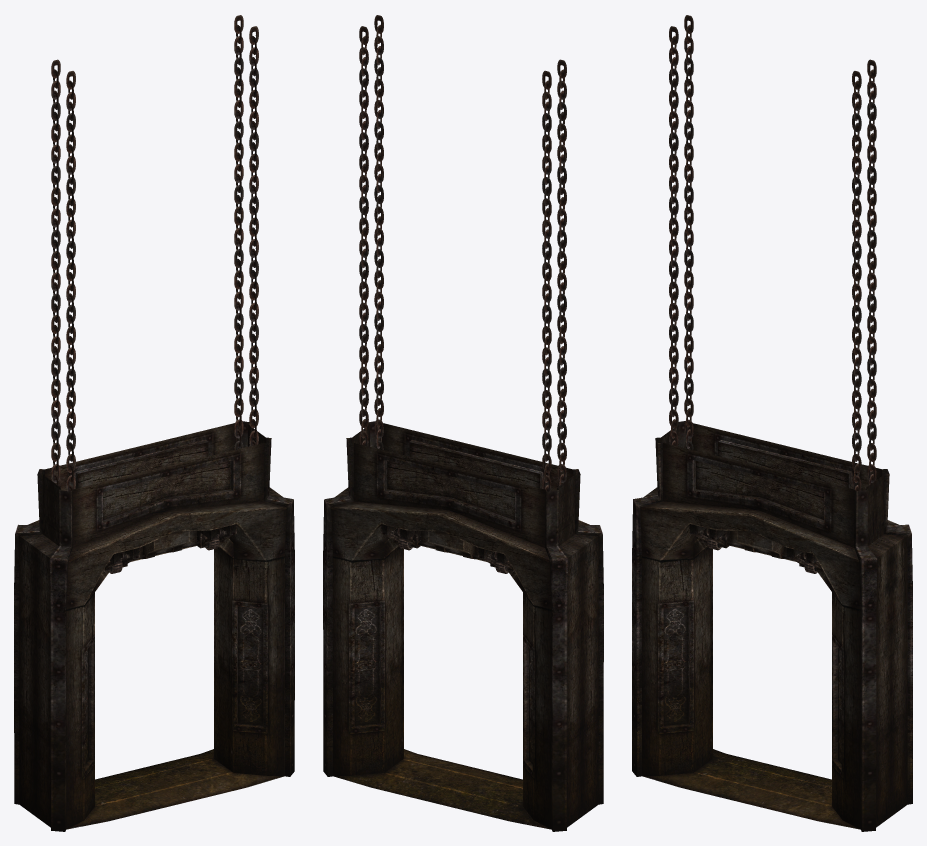
The model's file is wooden_slide_door_frame.dae.
3 views of the same model, side by side, from view 1: azimuth 30°, elevation 25°; view 2: azimuth 150°, elevation 25°; view 3: azimuth 330°, elevation 25° (orthographic).
Visible parts, largest first — view 1: polySurface51, polySurface55; view 2: polySurface51, polySurface55; view 3: polySurface51, polySurface55.
Part boxes in pixels (left/top/right/bottom): polySurface51: left=14, top=421, right=294, bottom=831; polySurface55: left=51, top=15, right=258, bottom=491; polySurface51: left=323, top=421, right=603, bottom=831; polySurface55: left=359, top=15, right=566, bottom=491; polySurface51: left=632, top=421, right=912, bottom=831; polySurface55: left=669, top=15, right=876, bottom=491.
Bounding box in the file's own units: 3.08 × 9.1 × 1.04.
